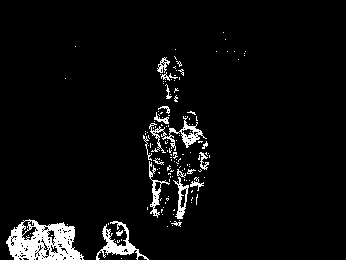person: (173, 110, 210, 228), (143, 104, 175, 216)
